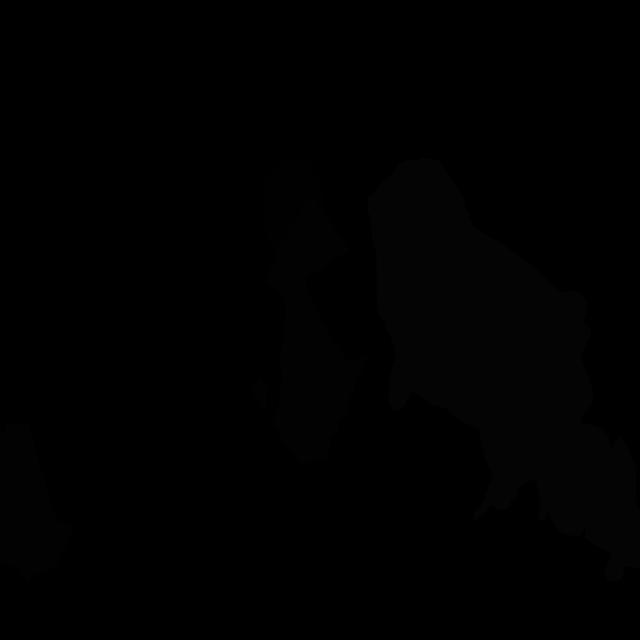cardboard: (265, 197, 368, 464), (0, 423, 74, 583), (250, 377, 268, 409)
rigid_plastic: (263, 157, 323, 253)
soft_plastic: (368, 157, 619, 535), (585, 436, 640, 582)
